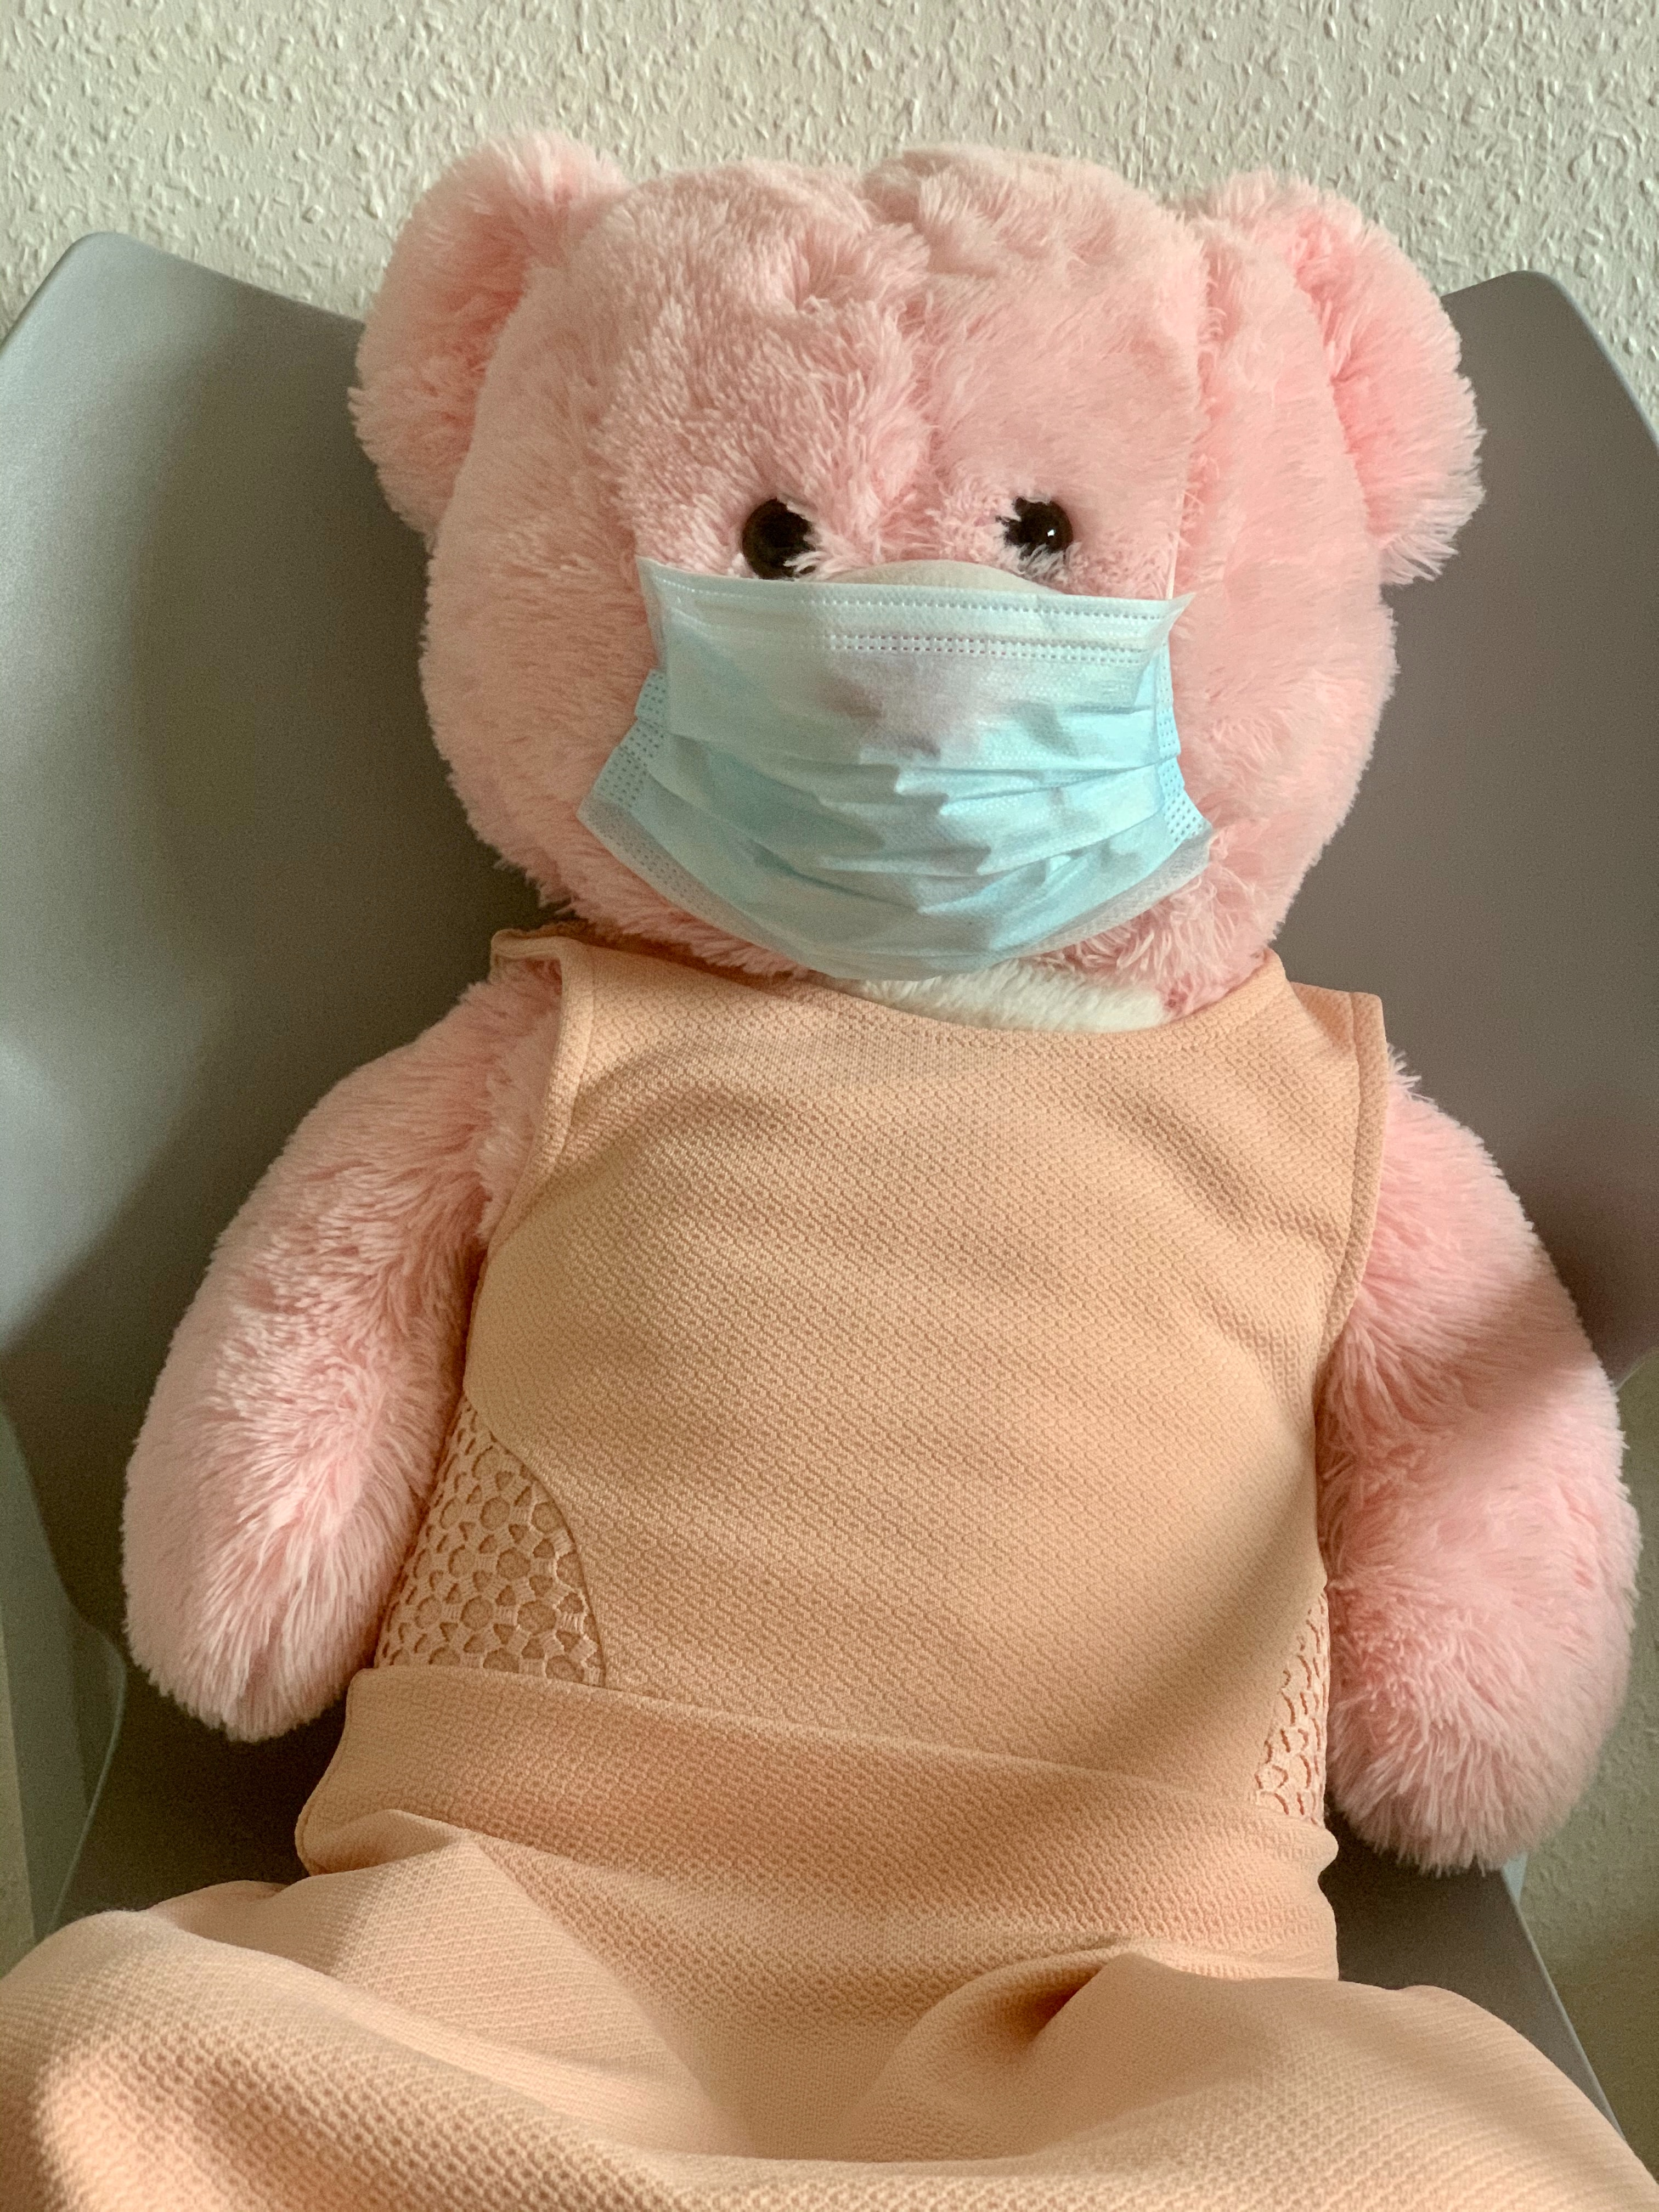mask: (586, 543, 1244, 1005)
